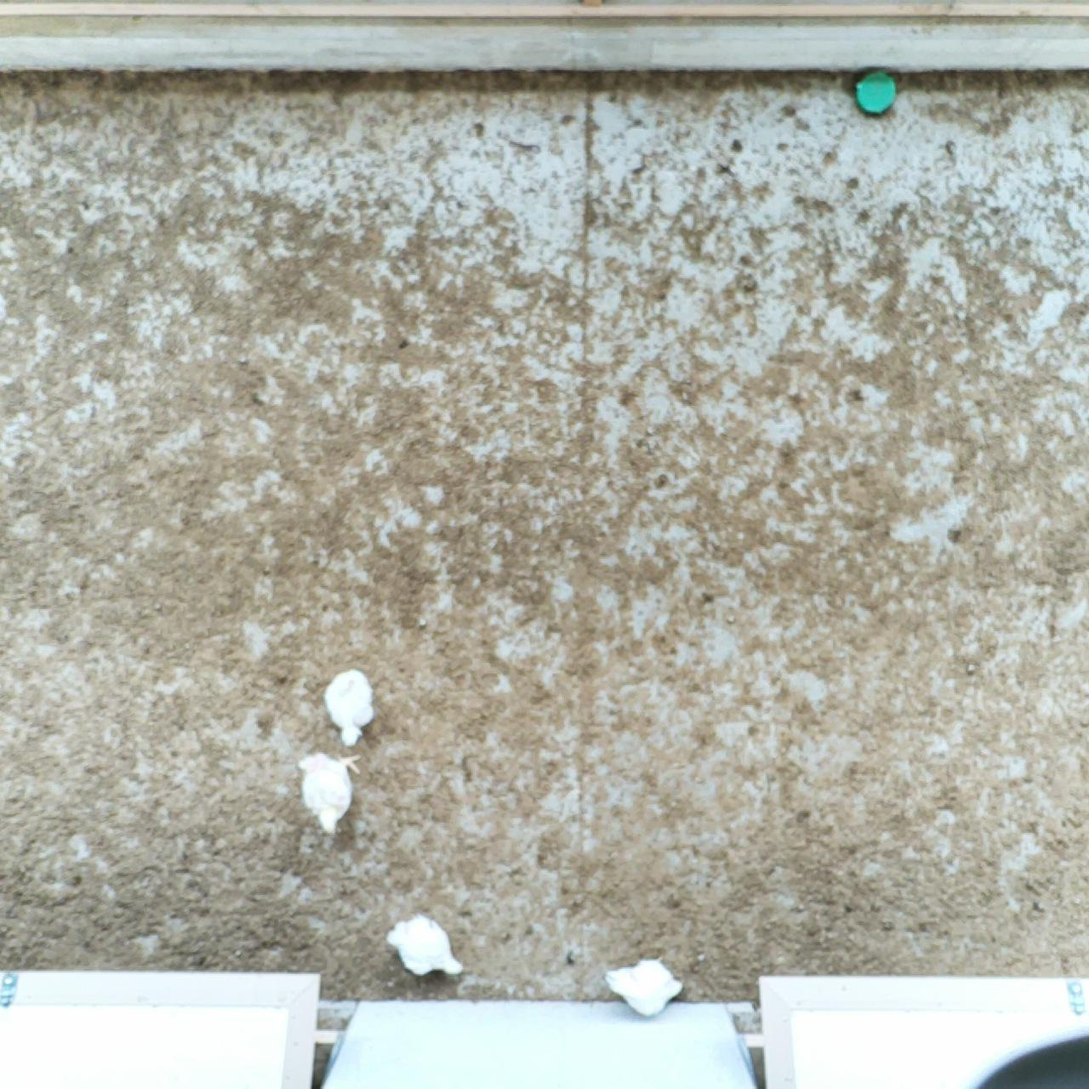chicken: (379, 906, 467, 983), (598, 946, 687, 1022), (296, 748, 366, 839), (320, 663, 379, 750)
